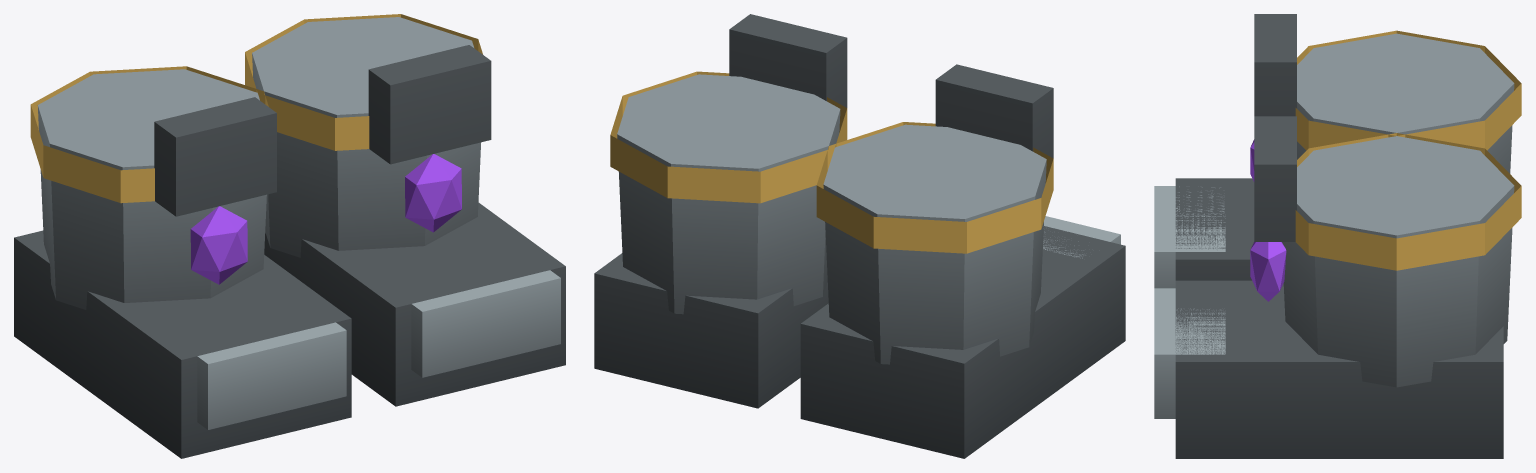
Rendered from guard_boots_t3.glb.
3 renders of one model, left to right at view 1: azimuth 30°, elevation 25°; view 2: azimuth 150°, elevation 25°; view 3: azimuth 270°, elevation 25°, orthographic. The views are drawn at different scales.
Visible parts, largest first — view 1: guard_boots_t3__lowerleg_r, guard_boots_t3__lowerleg_l, guard_boots_t3__foot_r, guard_boots_t3__foot_l; view 2: guard_boots_t3__lowerleg_r, guard_boots_t3__lowerleg_l, guard_boots_t3__foot_r, guard_boots_t3__foot_l; view 3: guard_boots_t3__lowerleg_l, guard_boots_t3__foot_l, guard_boots_t3__lowerleg_r, guard_boots_t3__foot_r.
Boxes of the visible parts, x1=… form: guard_boots_t3__lowerleg_r: x1=30, y1=66, x2=276, y2=309; guard_boots_t3__lowerleg_l: x1=245, y1=14, x2=491, y2=257; guard_boots_t3__foot_r: x1=14, y1=230, x2=351, y2=458; guard_boots_t3__foot_l: x1=264, y1=202, x2=565, y2=406; guard_boots_t3__lowerleg_r: x1=816, y1=64, x2=1053, y2=364; guard_boots_t3__lowerleg_l: x1=610, y1=14, x2=847, y2=314; guard_boots_t3__foot_r: x1=800, y1=216, x2=1125, y2=458; guard_boots_t3__foot_l: x1=594, y1=253, x2=828, y2=408; guard_boots_t3__lowerleg_l: x1=1250, y1=116, x2=1521, y2=387; guard_boots_t3__foot_l: x1=1154, y1=280, x2=1503, y2=458; guard_boots_t3__lowerleg_r: x1=1250, y1=14, x2=1521, y2=181; guard_boots_t3__foot_r: x1=1154, y1=178, x2=1254, y2=288.
Size of the model in its own units: 0.69 by 0.43 by 0.515.
Materials: 2 (1 with a texture image).
